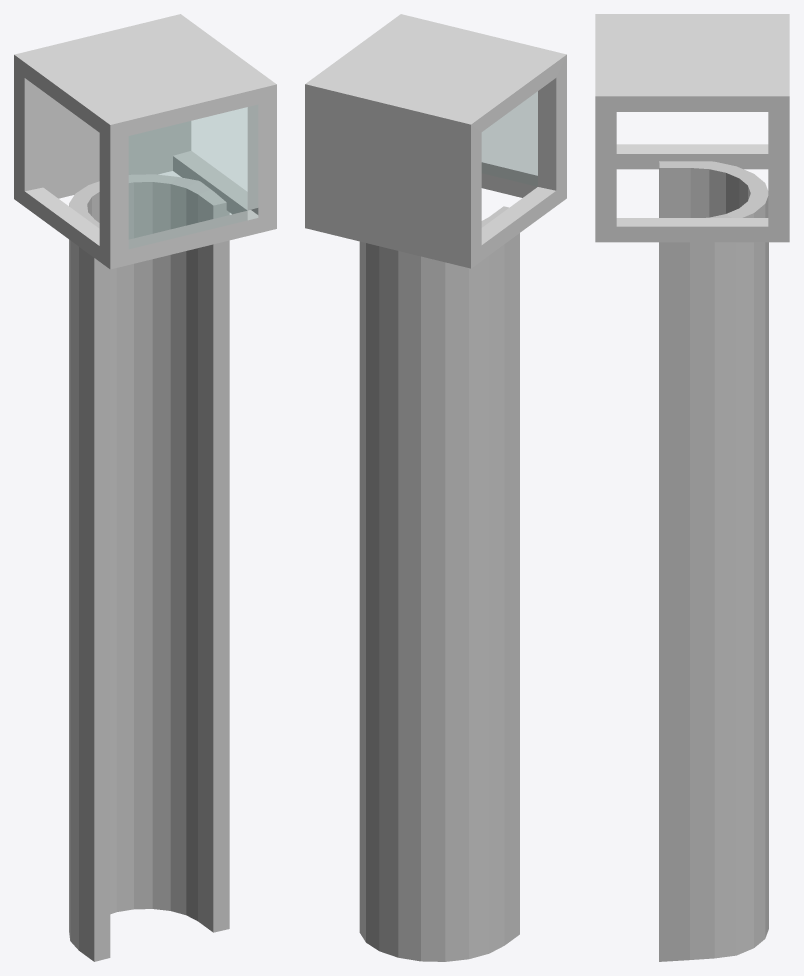
The model's file is tubo.fbx.
3 views of the same model, side by side, from view 1: azimuth 30°, elevation 25°; view 2: azimuth 150°, elevation 25°; view 3: azimuth 270°, elevation 25° (orthographic).
Parts seen in each view (by area): view 1: tubo; view 2: tubo; view 3: tubo.
Part boxes in pixels (x1,y1,x2,y2): tubo: [14, 14, 276, 961]; tubo: [305, 14, 566, 961]; tubo: [595, 14, 789, 961].
Size of the model in its own units: 186 by 922 by 186.
